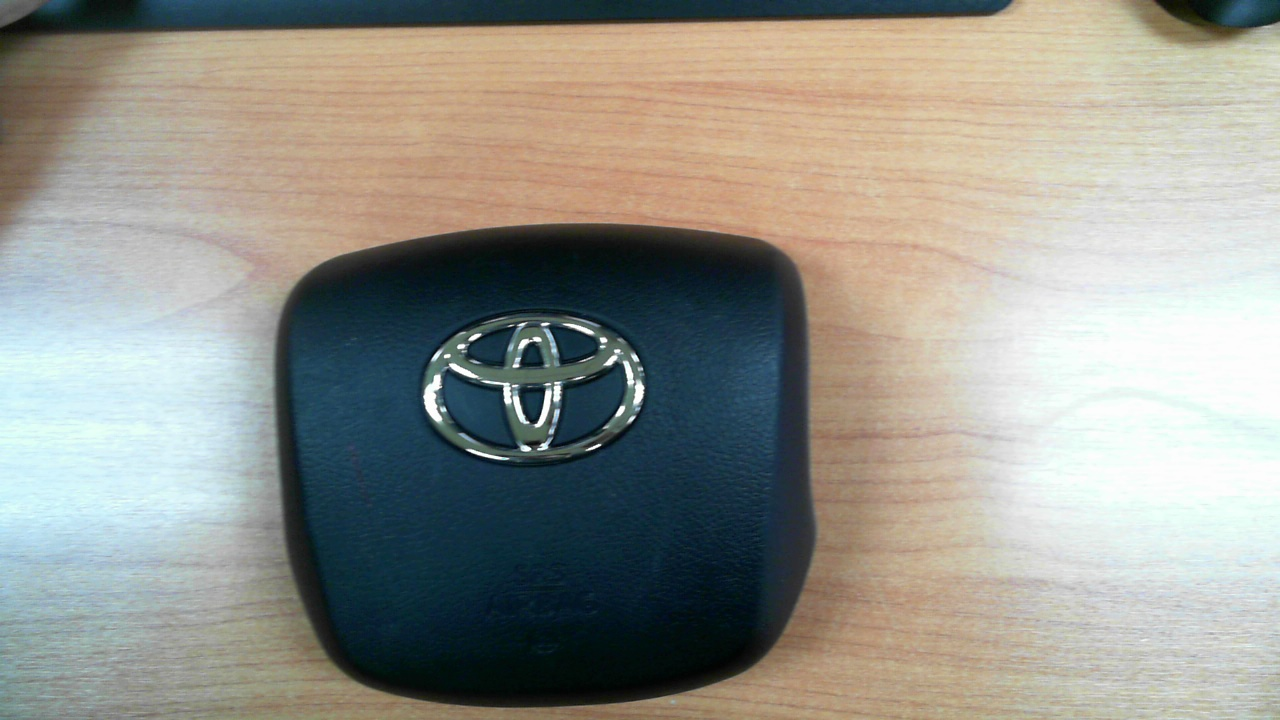Airbag: (276, 223, 817, 703)
Toyota: (421, 312, 646, 463)
